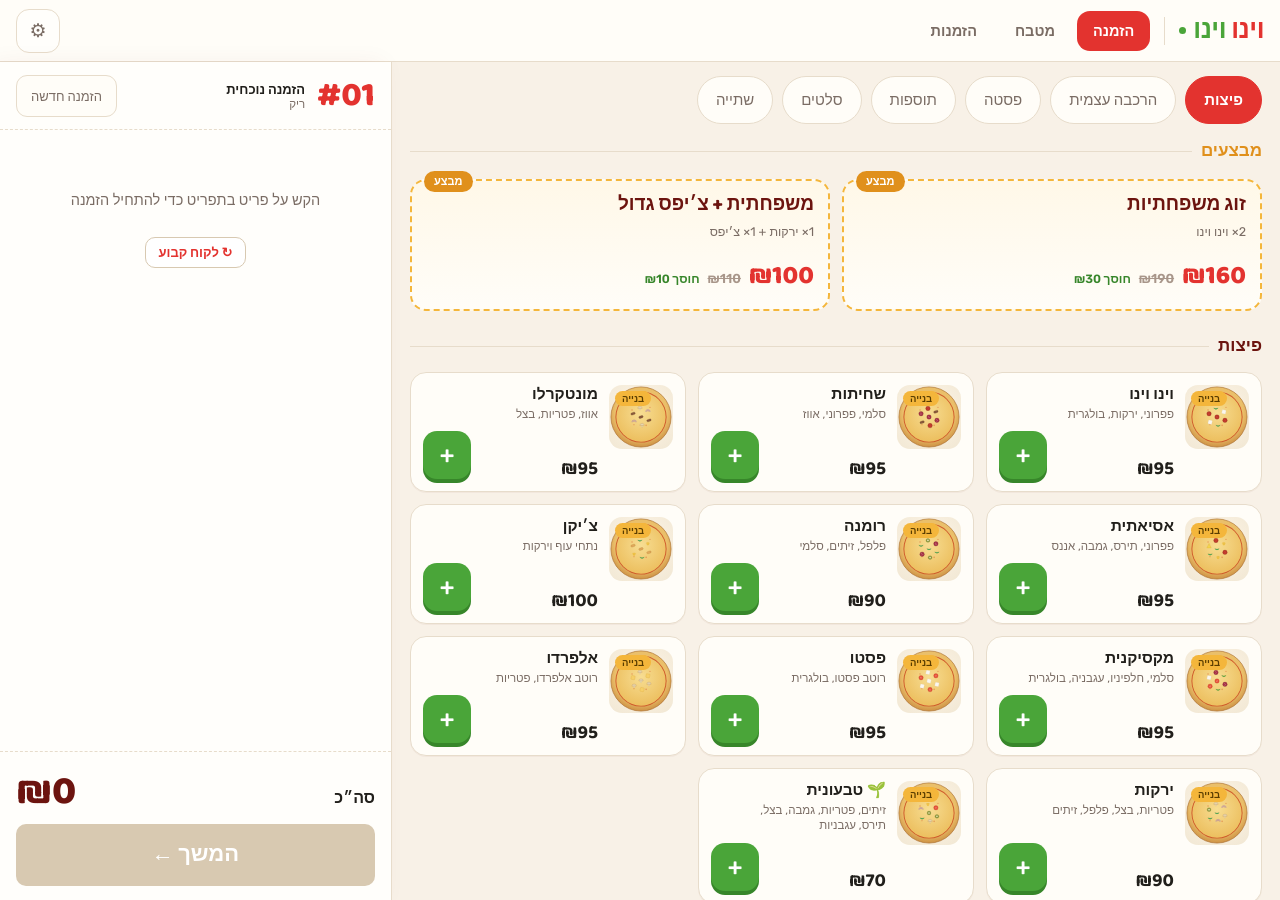
Test: build a whole pizza › quick-adds a pizza from the + without opening the builder
The width and height of the screenshot is (1280, 900).
Click the button named "הוסף וינו וינו". click: (1023, 455)
box: 999,431 -> 1047,479
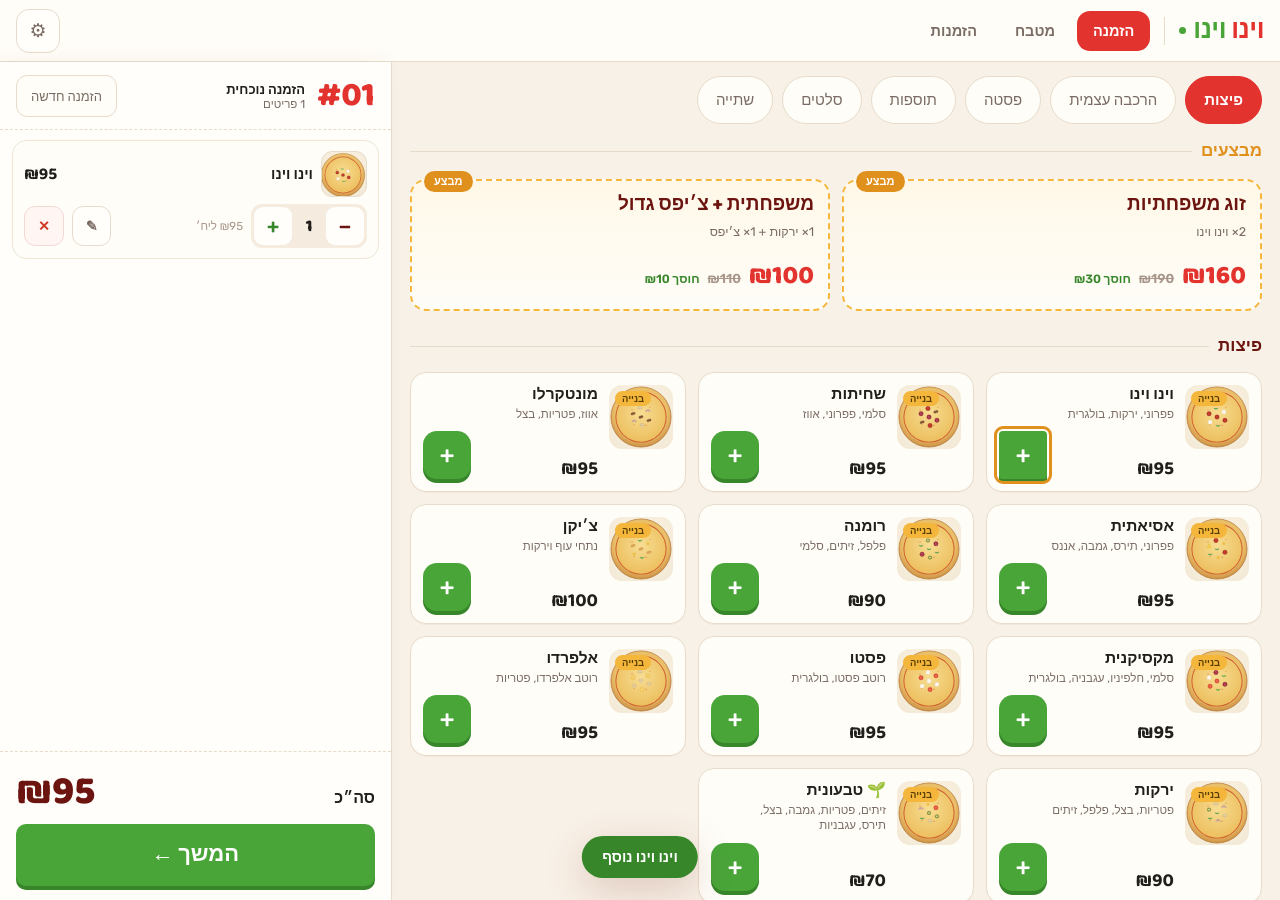
Check: the text "וינו וינו" below "01" is shown, box 271,165 -> 313,183
Check: the text with test id "ticket-total" reads "₪95", box 16,760 -> 95,824
